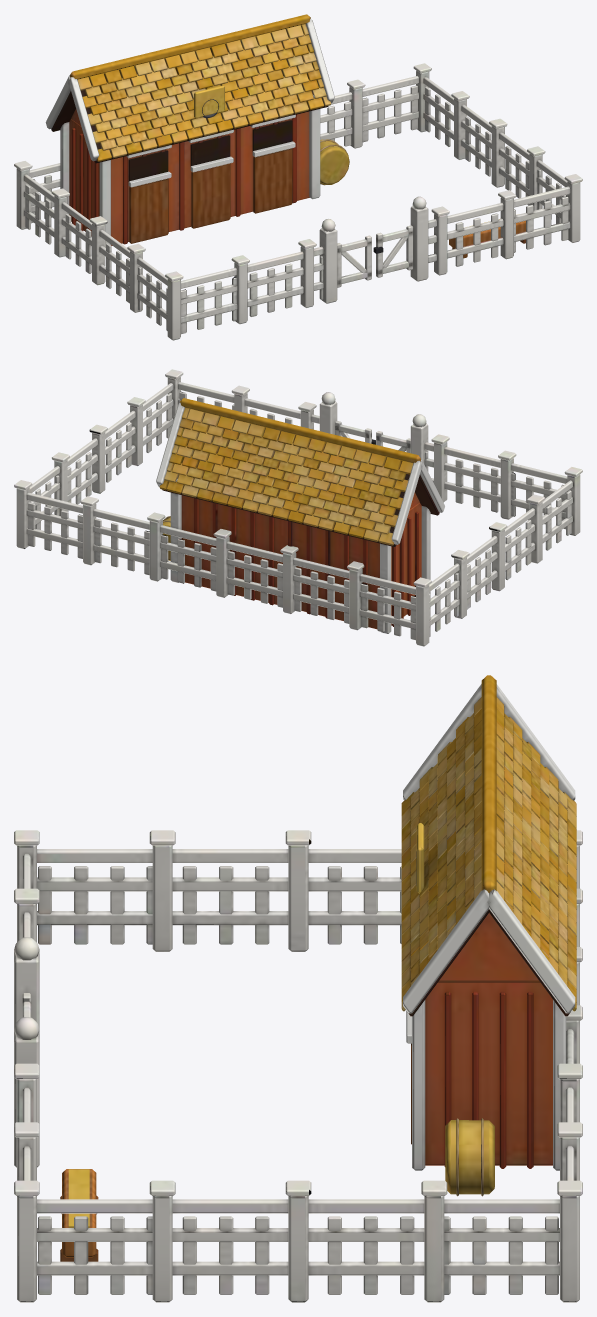
The model's file is palomino_stable.glb.
3 views of the same model, one above another, from view 1: azimuth 30°, elevation 25°; view 2: azimuth 150°, elevation 25°; view 3: azimuth 270°, elevation 25° (orthographic). The views are drawn at different scales.
Visible parts, largest first — view 1: palomino_stable, gate1, gate0; view 2: palomino_stable, gate1, gate0; view 3: palomino_stable.
Part boxes in pixels (x1,y1,x2,y2): palomino_stable: (14, 14, 582, 340); gate1: (373, 225, 413, 277); gate0: (337, 235, 371, 287); palomino_stable: (14, 369, 582, 646); gate1: (334, 420, 375, 444); gate0: (376, 431, 410, 453); palomino_stable: (14, 675, 582, 1302).
Size of the model in its own units: 2.99 by 1.16 by 1.99.
Materials: 1 (1 with a texture image).
